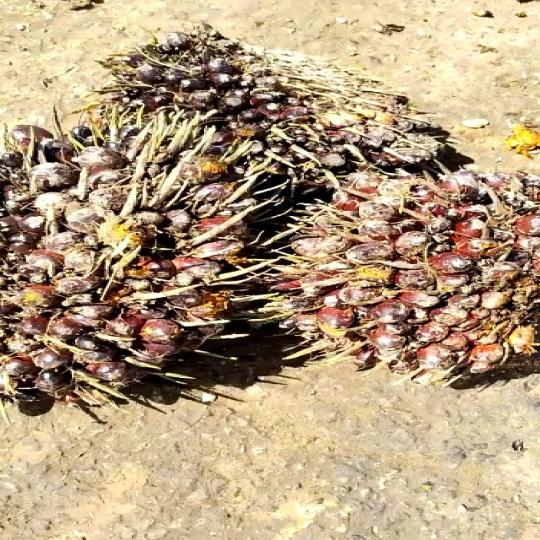kurang masak: (0, 117, 252, 406), (262, 154, 540, 408), (114, 31, 408, 193)
